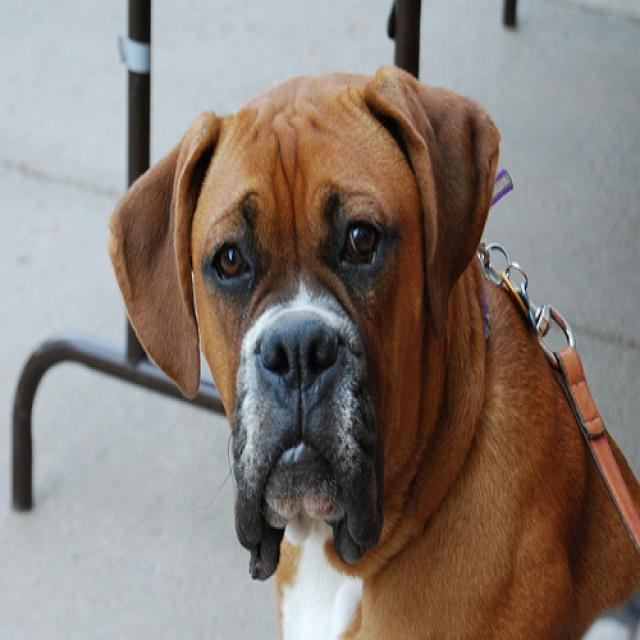dog: (105, 62, 499, 580)
